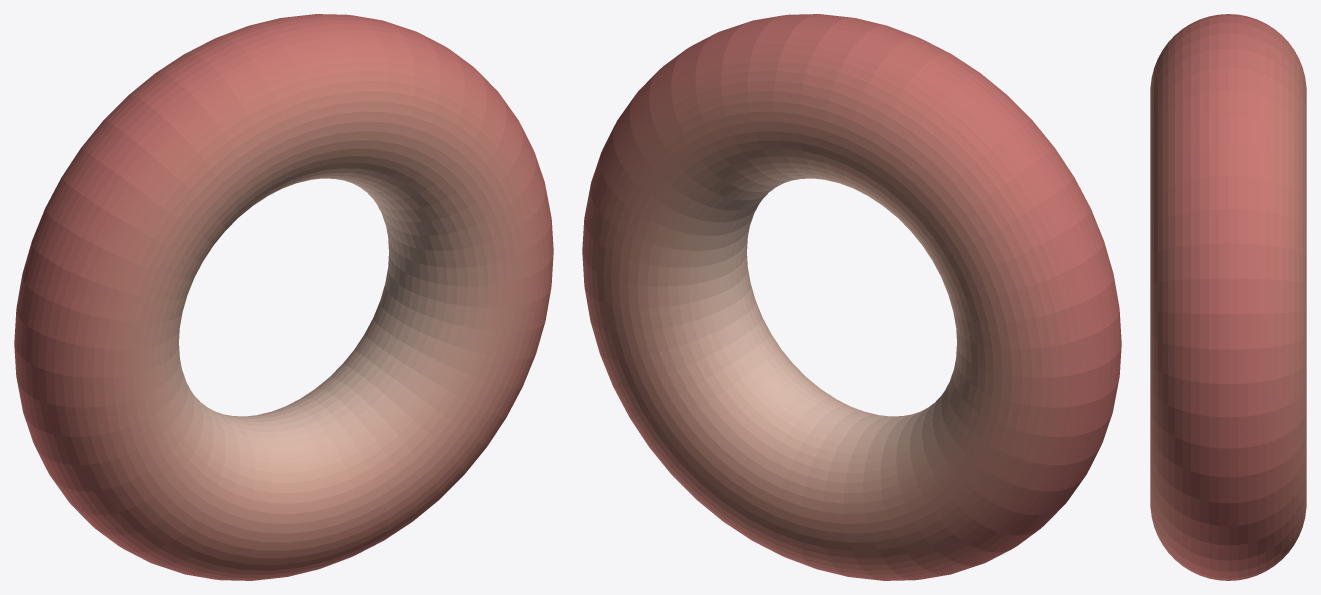
3 renders of one model, left to right at view 1: azimuth 30°, elevation 25°; view 2: azimuth 150°, elevation 25°; view 3: azimuth 270°, elevation 25°, orthographic. The views are drawn at different scales.
Parts seen in each view (by area): view 1: world; view 2: world; view 3: world.
Part boxes in pixels (<box>): world: <box>14,14,553,580</box>; world: <box>582,14,1121,580</box>; world: <box>1150,14,1306,580</box>.
Bounding box in the file's own units: 28.53 × 28.48 × 7.85.
